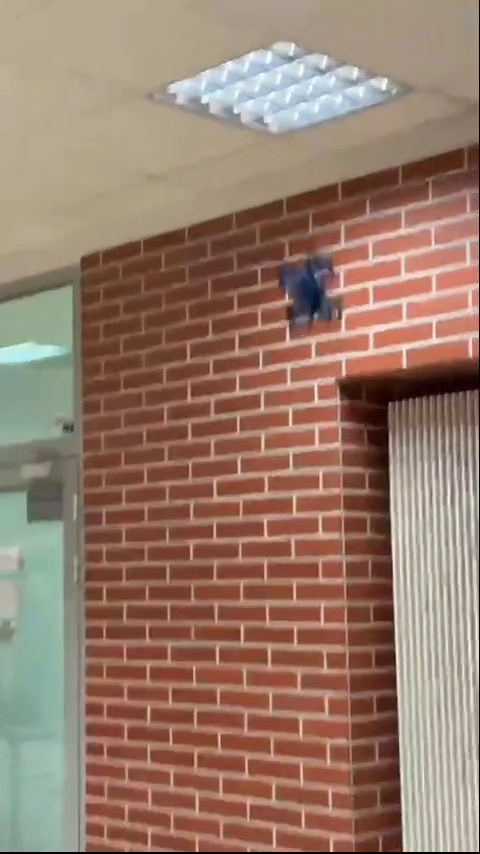drone: (271, 260, 343, 329)
